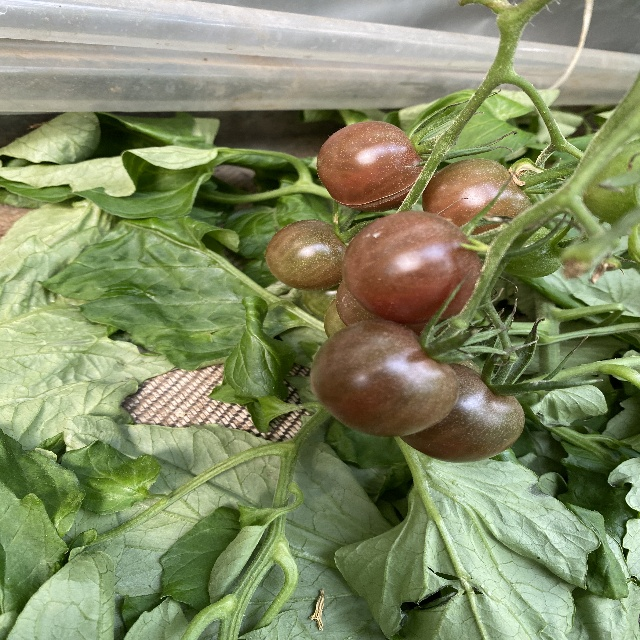l_fully_ripened: (343, 211, 482, 323), (317, 121, 426, 214), (266, 219, 348, 291)
l_green: (503, 227, 564, 278)
l_half_ripened: (309, 319, 459, 437), (400, 364, 525, 464), (422, 159, 533, 244)
